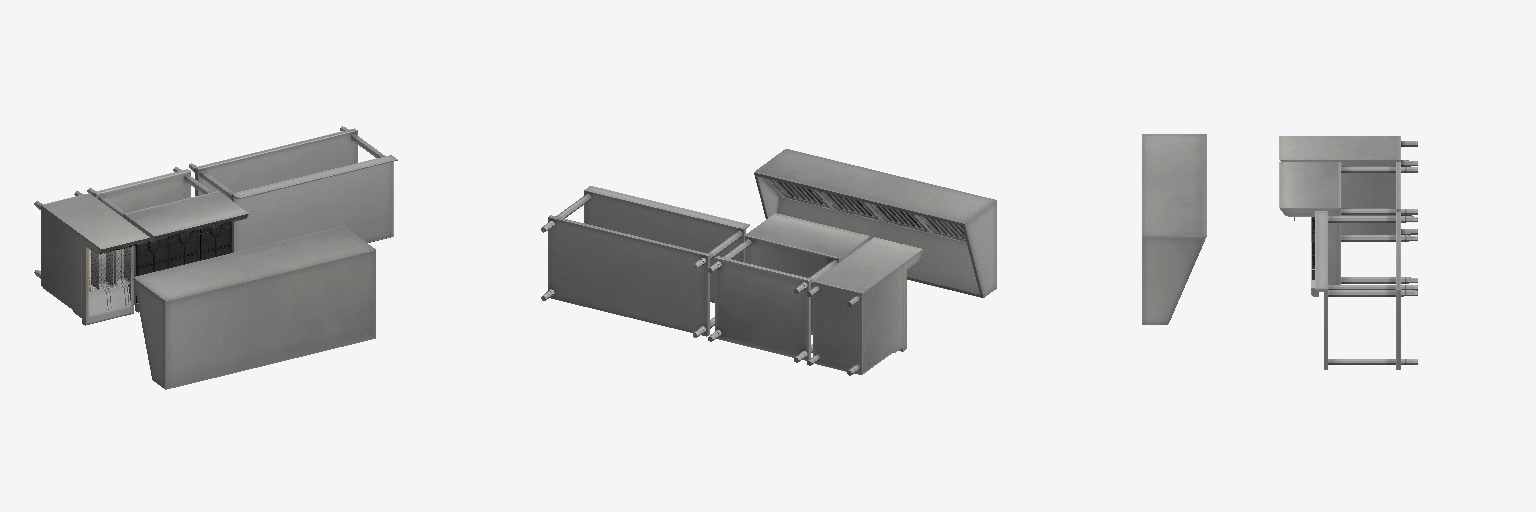
3 renders of one model, left to right at view 1: azimuth 30°, elevation 25°; view 2: azimuth 150°, elevation 25°; view 3: azimuth 270°, elevation 25°, orthographic.
Visible parts, largest first — view 1: commercialkitchenpack1_exhaust, commercialkitchnepack1_bench, commercialkitchnepack1_6burner, commercialkitchnepack1_deepfryer, commercialkitchnepack1_deepfryer_basket1, commercialkitchnepack1_deepfryer_basket2; view 2: commercialkitchnepack1_bench, commercialkitchenpack1_exhaust, commercialkitchnepack1_6burner, commercialkitchnepack1_deepfryer; view 3: commercialkitchenpack1_exhaust, commercialkitchnepack1_6burner, commercialkitchnepack1_deepfryer, commercialkitchnepack1_bench.
Part boxes in pixels (bbox=[...]): commercialkitchenpack1_exhaust: bbox=[133, 226, 375, 389]; commercialkitchnepack1_bench: bbox=[189, 126, 397, 252]; commercialkitchnepack1_6burner: bbox=[87, 167, 248, 312]; commercialkitchnepack1_deepfryer: bbox=[34, 191, 149, 325]; commercialkitchnepack1_deepfryer_basket1: bbox=[91, 251, 113, 309]; commercialkitchnepack1_deepfryer_basket2: bbox=[114, 247, 130, 305]; commercialkitchnepack1_bench: bbox=[541, 186, 749, 337]; commercialkitchenpack1_exhaust: bbox=[754, 149, 996, 297]; commercialkitchnepack1_6burner: bbox=[708, 213, 869, 362]; commercialkitchnepack1_deepfryer: bbox=[807, 237, 922, 375]; commercialkitchenpack1_exhaust: bbox=[1142, 134, 1206, 324]; commercialkitchnepack1_6burner: bbox=[1279, 162, 1417, 296]; commercialkitchnepack1_deepfryer: bbox=[1279, 136, 1417, 241]; commercialkitchnepack1_bench: bbox=[1315, 211, 1417, 369].
Size of the model in its own units: 118 by 31.51 by 88.53.
Materials: 5 (5 with a texture image).